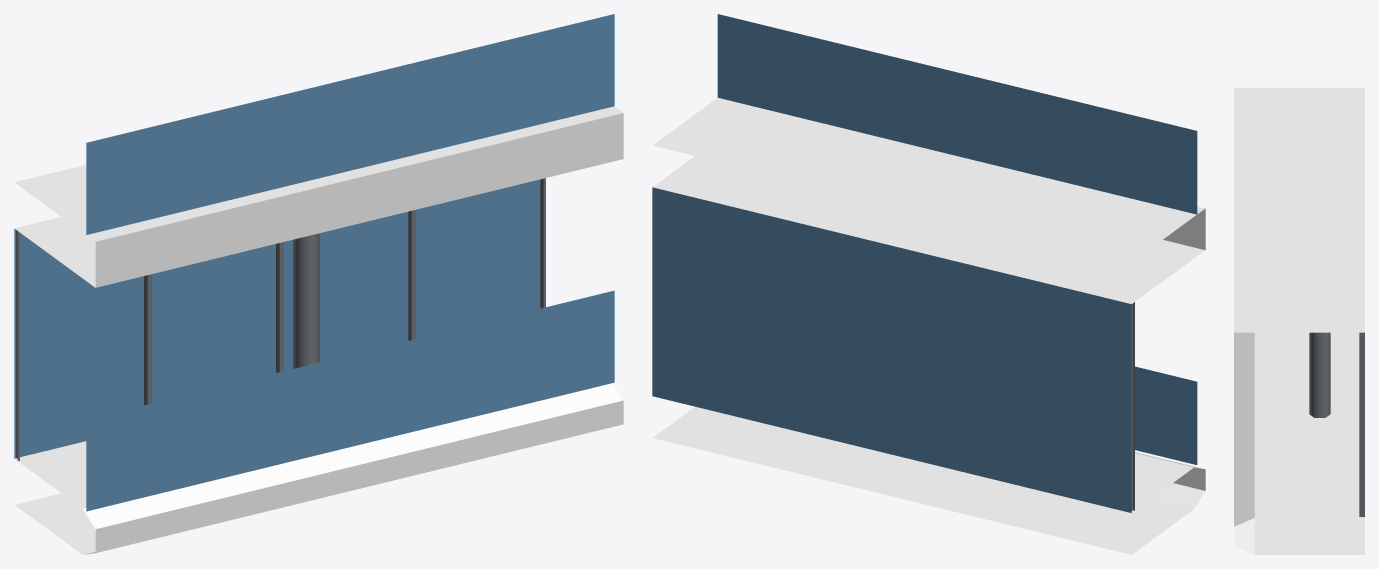
File: top-w1.fbx
3 renders of one model, left to right at view 1: azimuth 30°, elevation 25°; view 2: azimuth 150°, elevation 25°; view 3: azimuth 270°, elevation 25°, orthographic. The views are drawn at different scales.
Visible parts, largest first — view 1: a2012/800/top-w1; view 2: a2012/800/top-w1; view 3: a2012/800/top-w1.
Boxes of the visible parts, x1,y1,x2,y2 form: a2012/800/top-w1: [14, 14, 623, 554]; a2012/800/top-w1: [652, 14, 1205, 554]; a2012/800/top-w1: [1234, 88, 1364, 554].
Size of the model in its own units: 6 by 4.5 by 1.6.
